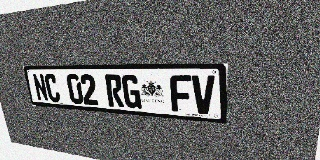0: (66, 74, 84, 104)
2: (79, 74, 98, 105)
C: (44, 74, 61, 102)
F: (170, 75, 192, 113)
G: (121, 74, 142, 109)
N: (32, 74, 49, 102)
R: (105, 74, 124, 107)
V: (192, 75, 215, 115)
